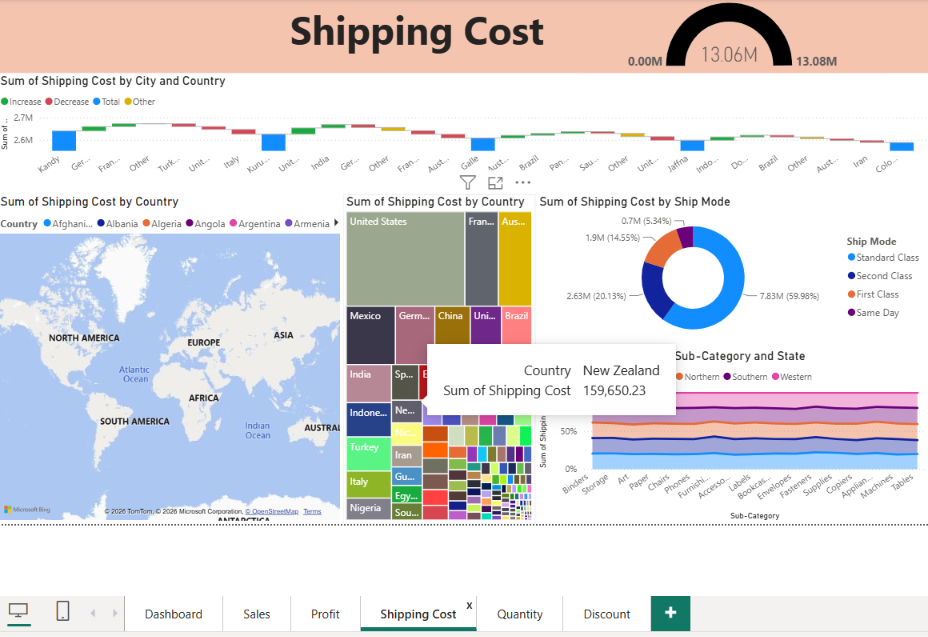

The dashboard page shown, as its layout file describes it:
{"tool":"powerbi","page":{"name":"Shipping Cost","canvas":[1280,720],"ordinal":3},"visuals":[{"type":"textbox","box":[0,0,1280,101.5],"z":0},{"type":"gauge","fields":{"Y":["Sum(New_Visualized_Sales.Shipping Cost)"]},"box":[795.4,0,427.7,101.5],"z":1000},{"type":"waterfallChart","fields":{"Breakdown":["New_Visualized_Sales.Country"],"Category":["New_Visualized_Sales.City"],"Y":["Sum(New_Visualized_Sales.Shipping Cost)"]},"box":[0,101.5,1280,150.8],"z":2000},{"type":"treemap","fields":{"Group":["New_Visualized_Sales.Country"],"Values":["Sum(New_Visualized_Sales.Shipping Cost)"]},"box":[475.4,267.7,264.6,452.3],"z":3000},{"type":"filledMap","fields":{"Series":["New_Visualized_Sales.Country"]},"box":[0,267.7,475.4,452.3],"z":4000},{"type":"donutChart","fields":{"Category":["New_Visualized_Sales.Ship Mode"],"Y":["Sum(New_Visualized_Sales.Shipping Cost)"]},"box":[740,267.7,540,210.8],"z":5000},{"type":"hundredPercentStackedAreaChart","fields":{"Category":["New_Visualized_Sales.Sub-Category"],"Series":["New_Visualized_Sales.State"],"Y":["Sum(New_Visualized_Sales.Shipping Cost)"]},"box":[740,479,540,241],"z":6000}]}

Visuals, with their boxes on the page's 1280x720 design canvas (x1, y1, x2, y2). These are canvas units, not pixel positions in the 928x637 screenshot, which may show the page scaled, cropped or inside an application window:
textbox: 0:0:1280:102
gauge - Sum(New_Visualized_Sales.Shipping Cost): 795:0:1223:102
waterfallChart - New_Visualized_Sales.Country x New_Visualized_Sales.City: 0:102:1280:252
treemap - New_Visualized_Sales.Country x Sum(New_Visualized_Sales.Shipping Cost): 475:268:740:720
filledMap - New_Visualized_Sales.Country: 0:268:475:720
donutChart - New_Visualized_Sales.Ship Mode x Sum(New_Visualized_Sales.Shipping Cost): 740:268:1280:478
hundredPercentStackedAreaChart - New_Visualized_Sales.Sub-Category x New_Visualized_Sales.State: 740:479:1280:720
